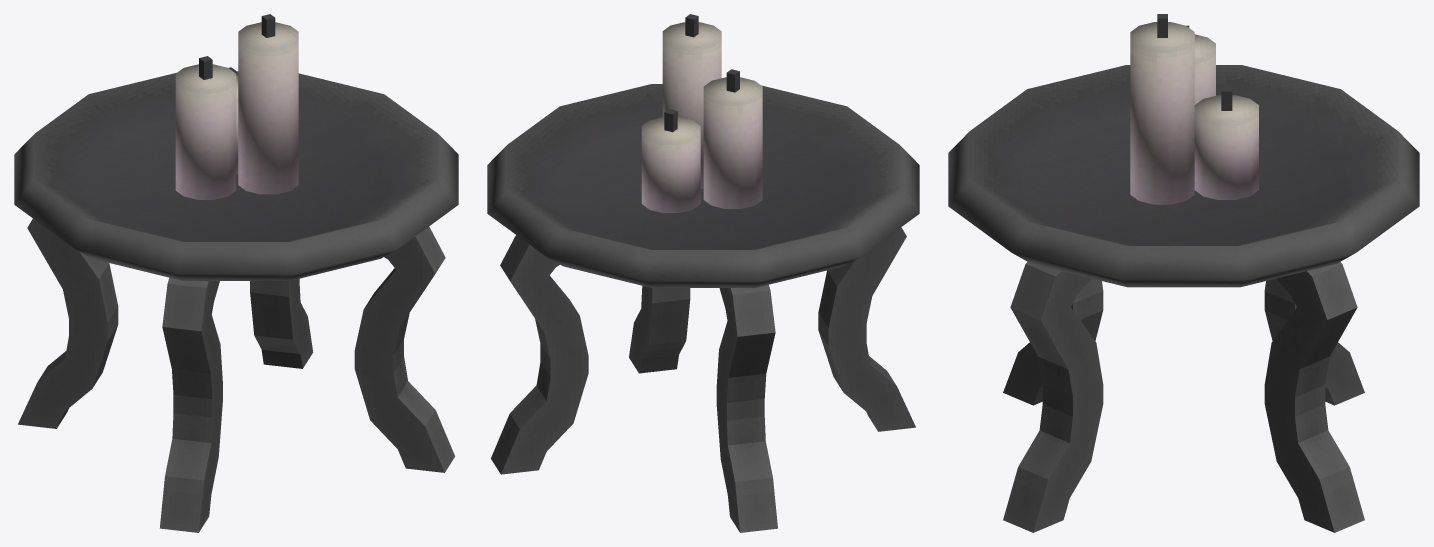
The model's file is candletable420.gltf.
3 renders of one model, left to right at view 1: azimuth 30°, elevation 25°; view 2: azimuth 150°, elevation 25°; view 3: azimuth 270°, elevation 25°, orthographic. The views are drawn at different scales.
Parts seen in each view (by area): view 1: circle, group, cylinder (×2); view 2: circle, group, cylinder (×3); view 3: circle, group, cylinder (×3).
Part boxes in pixels (x1=…): circle: x1=14, y1=71, x2=458, y2=280; group: x1=18, y1=14, x2=454, y2=532; cylinder (×2): x1=175, y1=22, x2=298, y2=199; circle: x1=487, y1=84, x2=919, y2=287; group: x1=491, y1=14, x2=915, y2=532; cylinder (×3): x1=641, y1=22, x2=762, y2=212; circle: x1=948, y1=65, x2=1419, y2=287; group: x1=1003, y1=14, x2=1364, y2=532; cylinder (×3): x1=1130, y1=22, x2=1258, y2=204.
Size of the model in its own units: 1.38 by 1.45 by 1.38.
